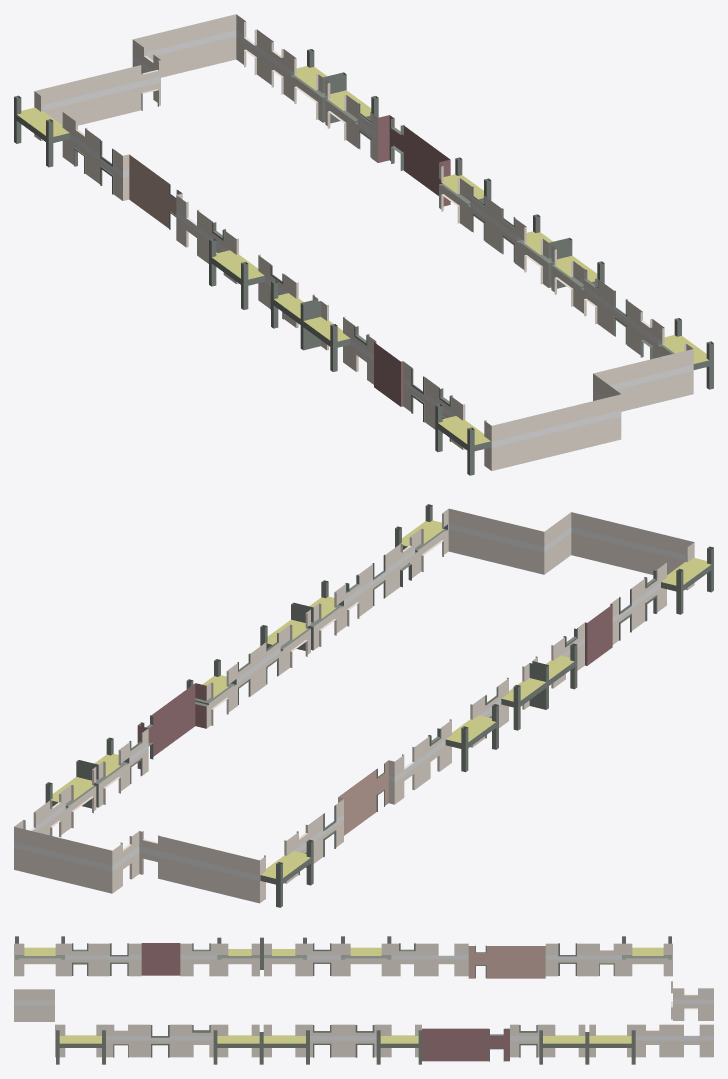
The model's file is wall_2.fbx.
3 views of the same model, one above another, from view 1: azimuth 30°, elevation 25°; view 2: azimuth 150°, elevation 25°; view 3: azimuth 270°, elevation 25° (orthographic). The views are drawn at different scales.
Parts seen in each view (by area): view 1: wall_2; view 2: wall_2; view 3: wall_2.
Boxes of the visible parts, x1,y1,x2,y2 form: wall_2: (14, 14, 713, 475); wall_2: (14, 504, 713, 907); wall_2: (14, 936, 713, 1064).
Size of the model in its own units: 2328 by 370 by 7190.
